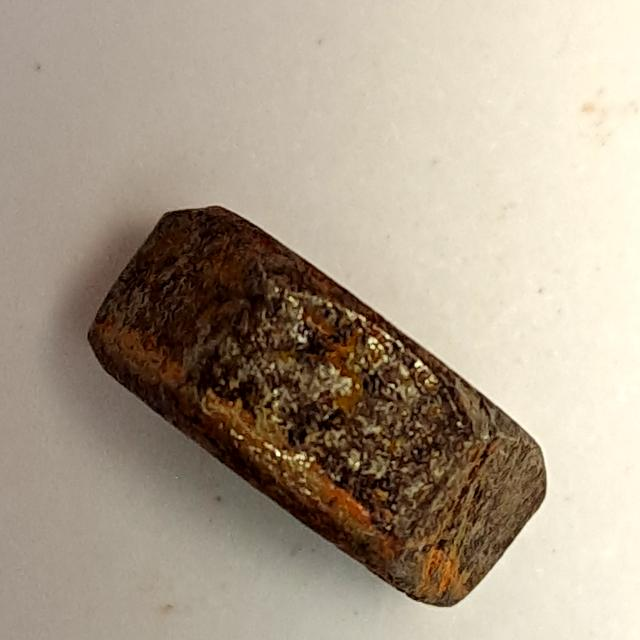Side_Rust: (76, 185, 558, 623)
